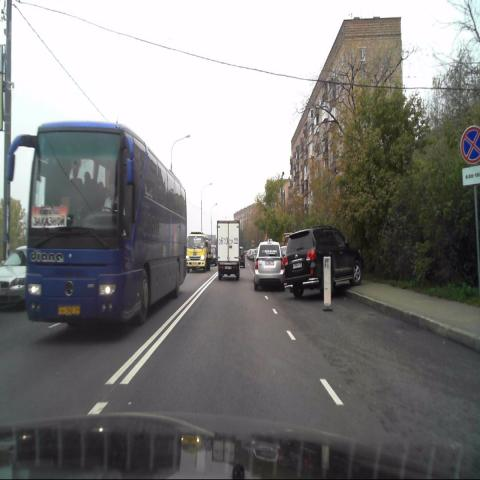8_5_4: (462, 166, 480, 184)
